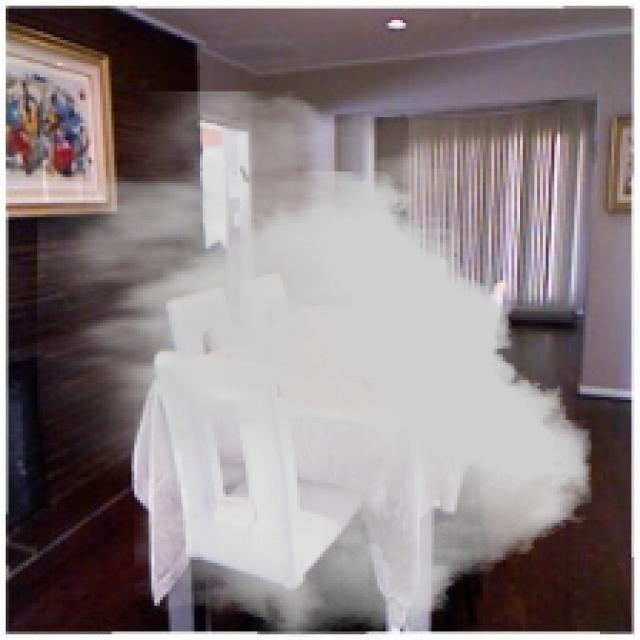Smoke: (37, 92, 594, 638)
